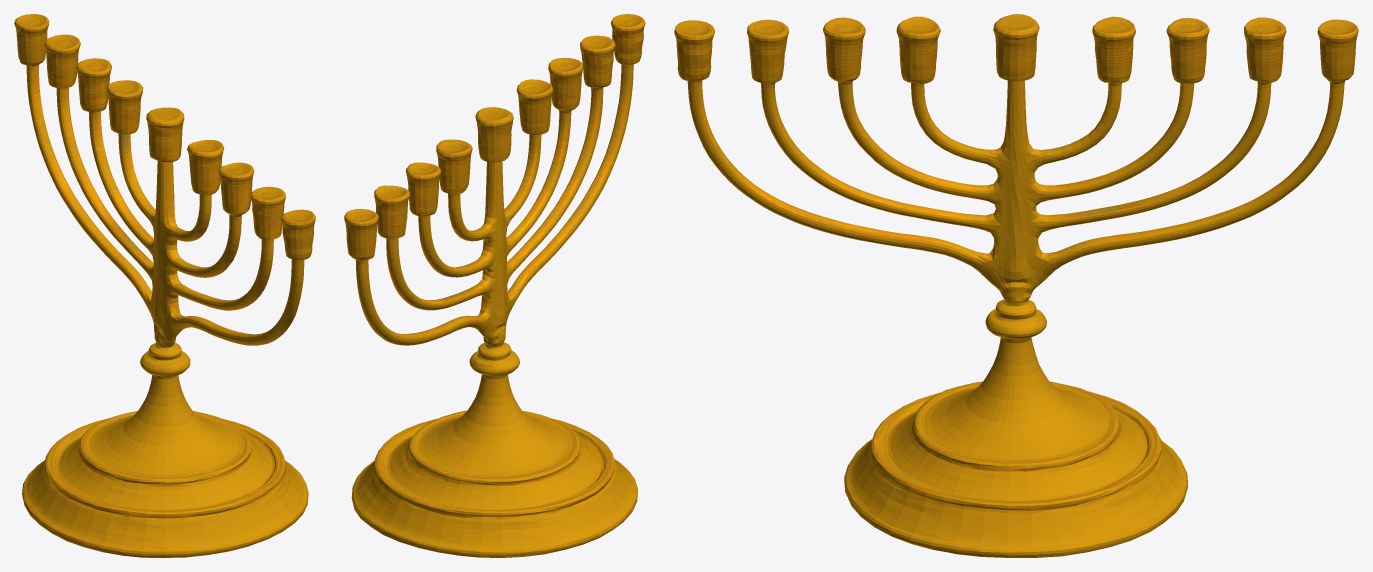
File: tripo_convert_0bdc603a-3ac3-415b-80a1-a25ddc4f32e7.obj
3 renders of one model, left to right at view 1: azimuth 30°, elevation 25°; view 2: azimuth 150°, elevation 25°; view 3: azimuth 270°, elevation 25°, orthographic. The views are drawn at different scales.
Parts seen in each view (by area): view 1: tripo_node_0bdc603a-3ac3-415b-80a1-a25ddc4f32e7; view 2: tripo_node_0bdc603a-3ac3-415b-80a1-a25ddc4f32e7; view 3: tripo_node_0bdc603a-3ac3-415b-80a1-a25ddc4f32e7.
Boxes of the visible parts, x1,y1,x2,y2 form: tripo_node_0bdc603a-3ac3-415b-80a1-a25ddc4f32e7: (14,14,315,557); tripo_node_0bdc603a-3ac3-415b-80a1-a25ddc4f32e7: (344,14,645,557); tripo_node_0bdc603a-3ac3-415b-80a1-a25ddc4f32e7: (674,14,1358,557).
Size of the model in its own units: 0.5018 by 0.7503 by 0.999.
1 material, 1 textured.
